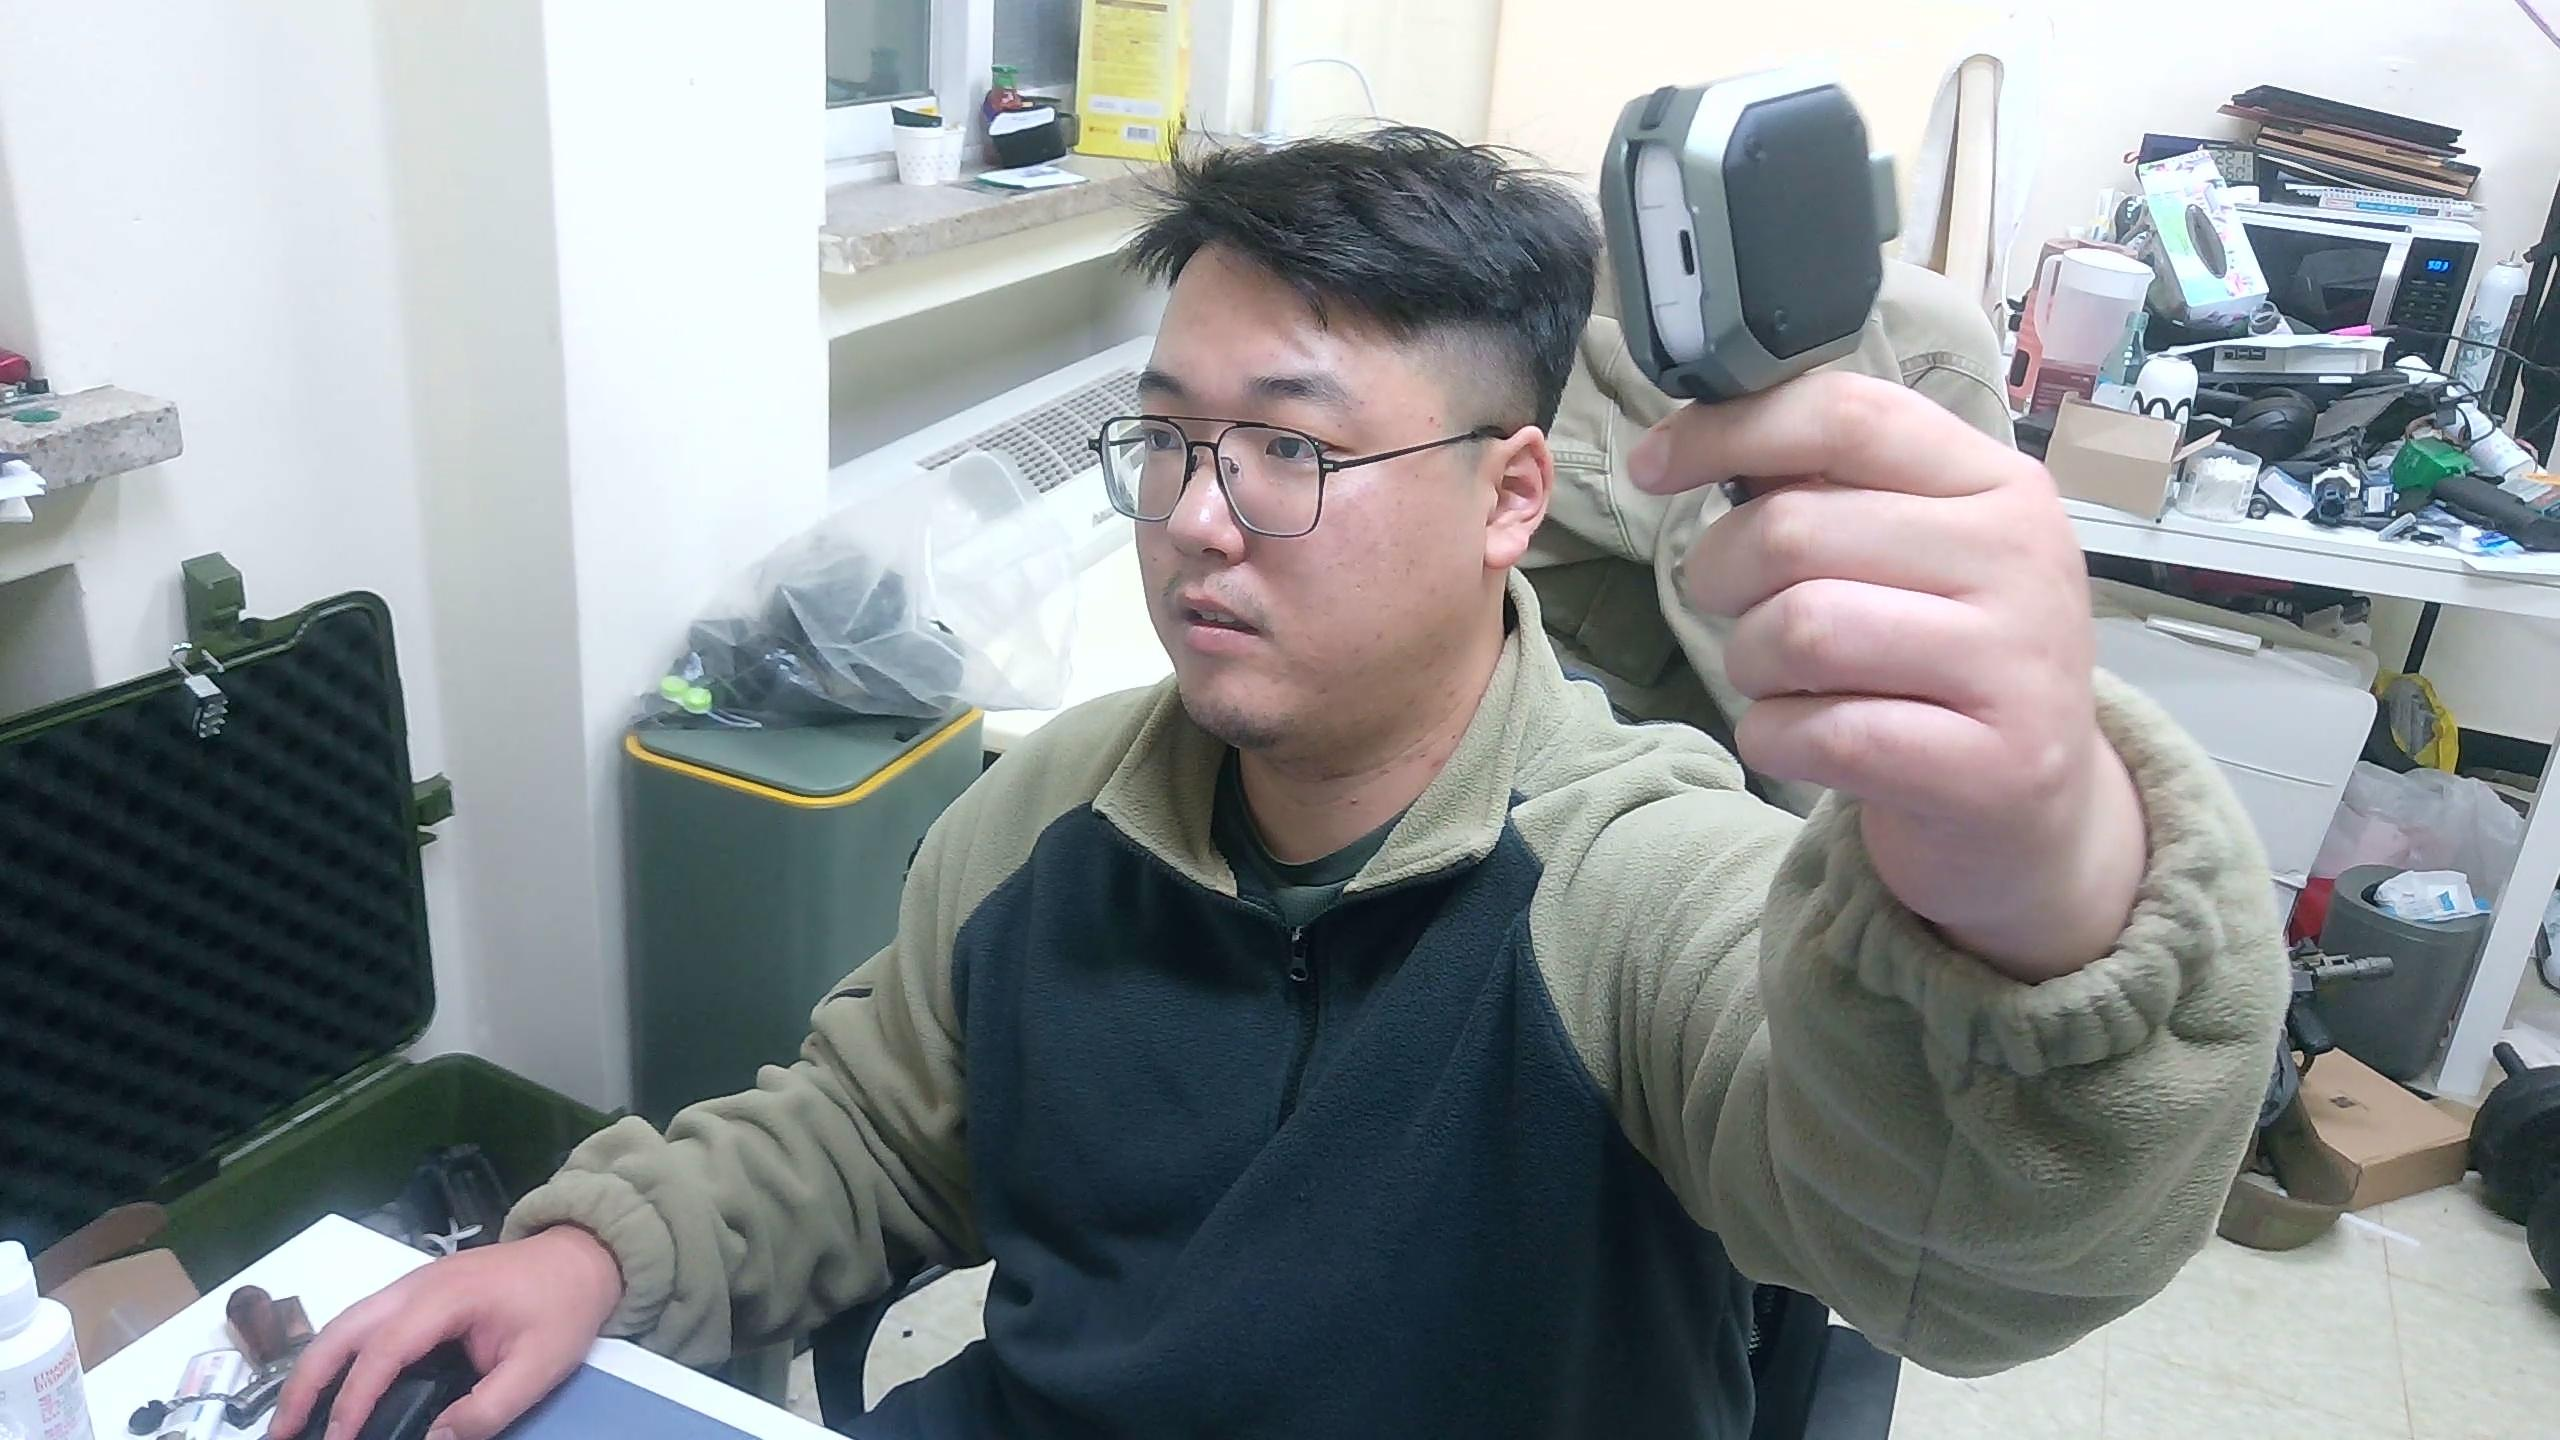blue_pliers: (1596, 63, 1894, 406)
